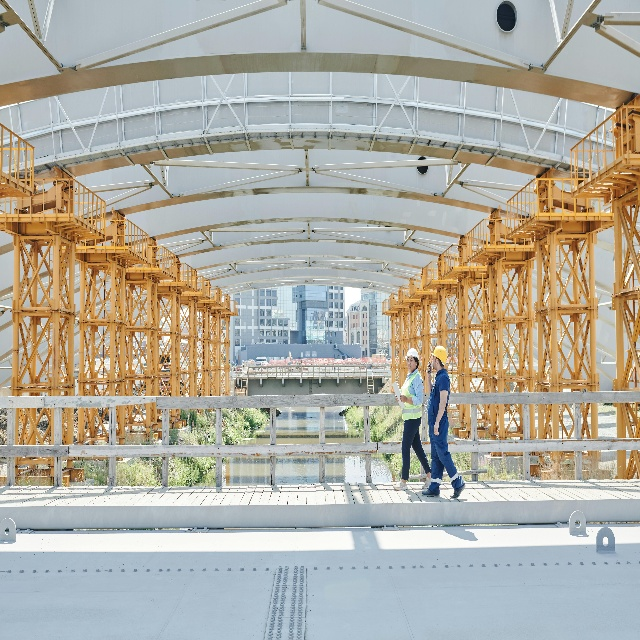Gafas: (423, 399, 428, 412)
Sin_guantes: (433, 419, 439, 435), (400, 394, 407, 403), (395, 394, 399, 403)
